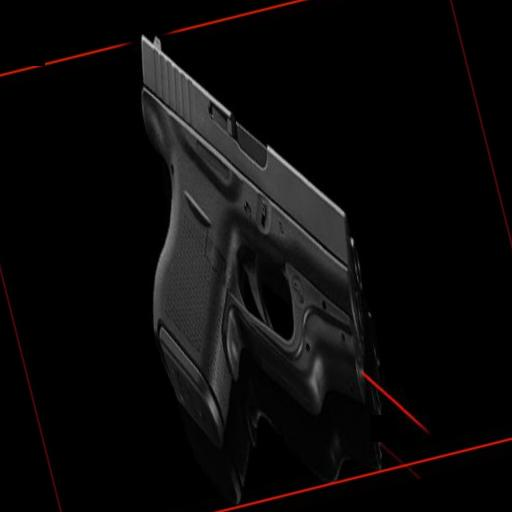Handgun: (84, 8, 397, 462)
